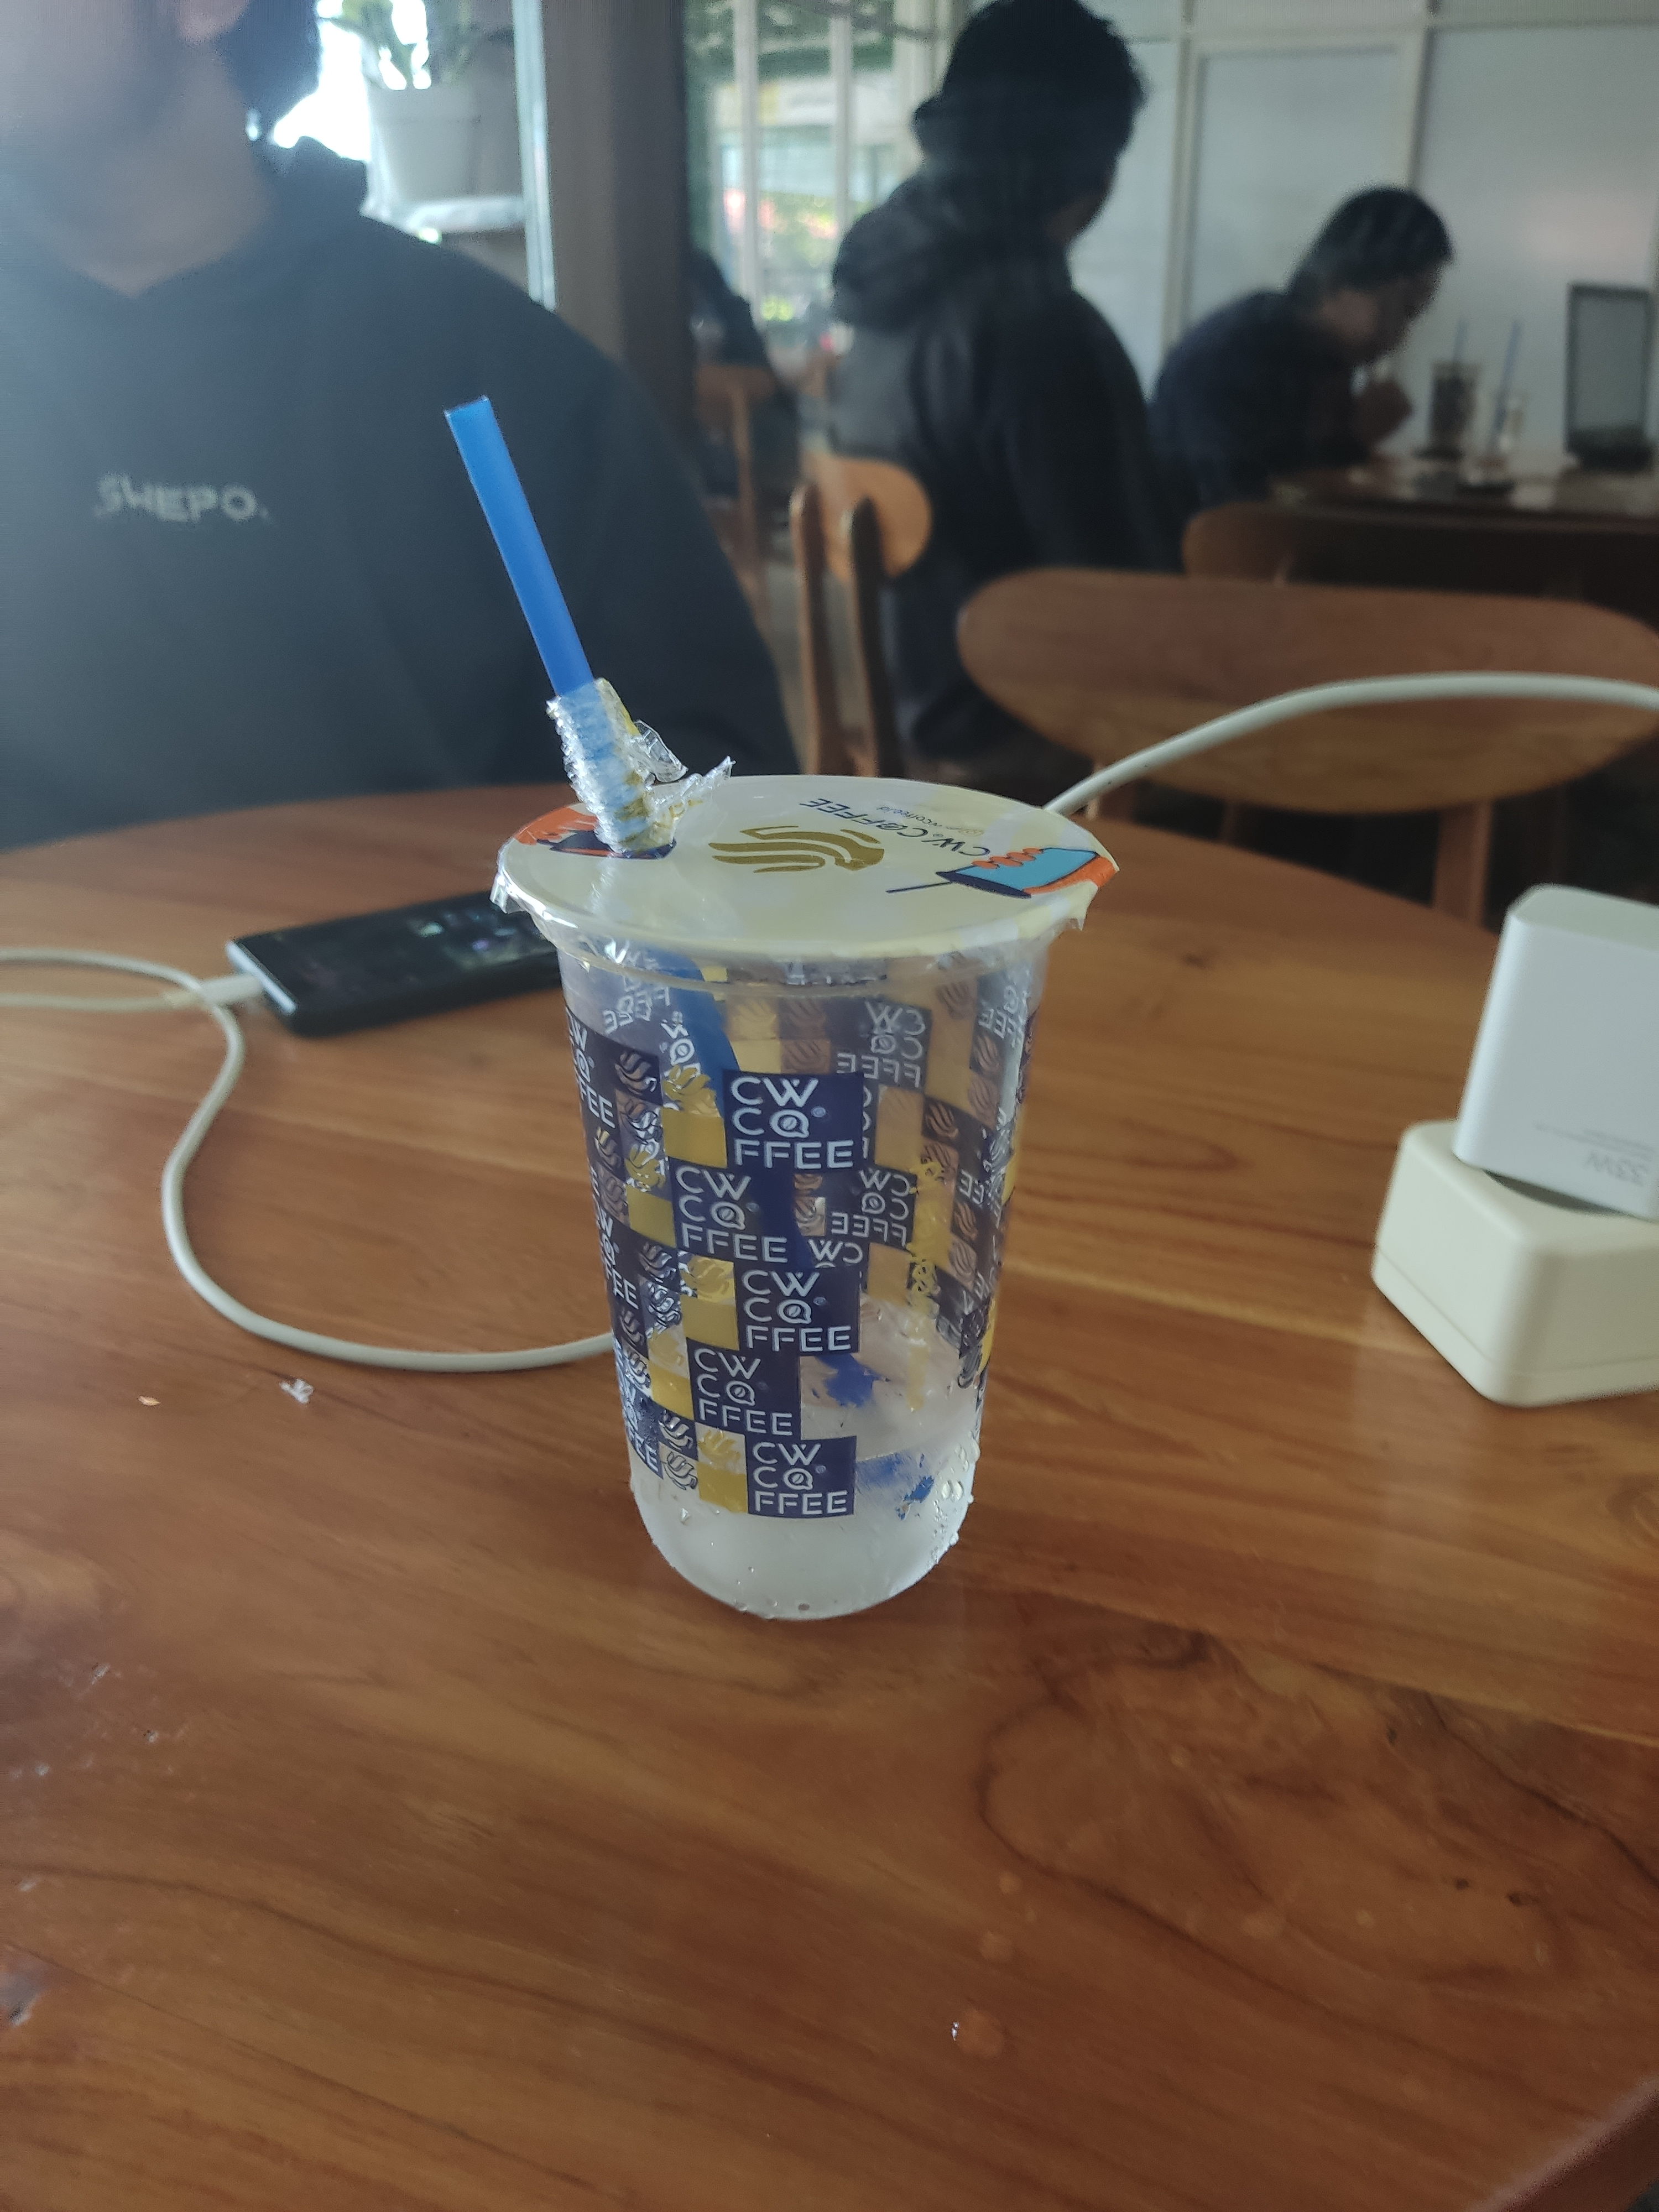Gelas CW: (486, 770, 1105, 1613)
